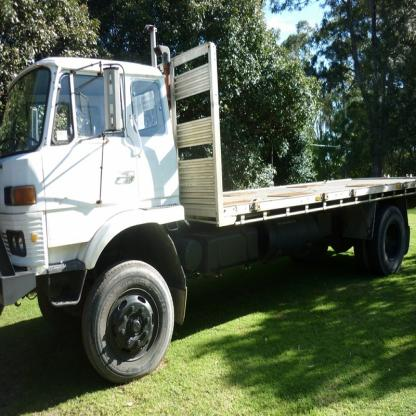truck: (1, 23, 416, 381)
